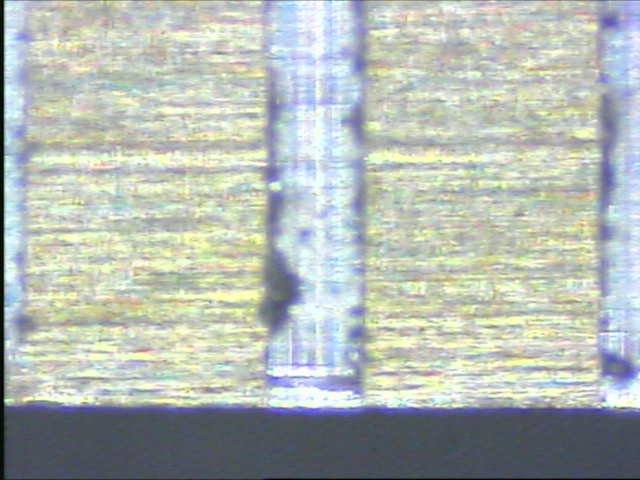line: (265, 1, 366, 406)
